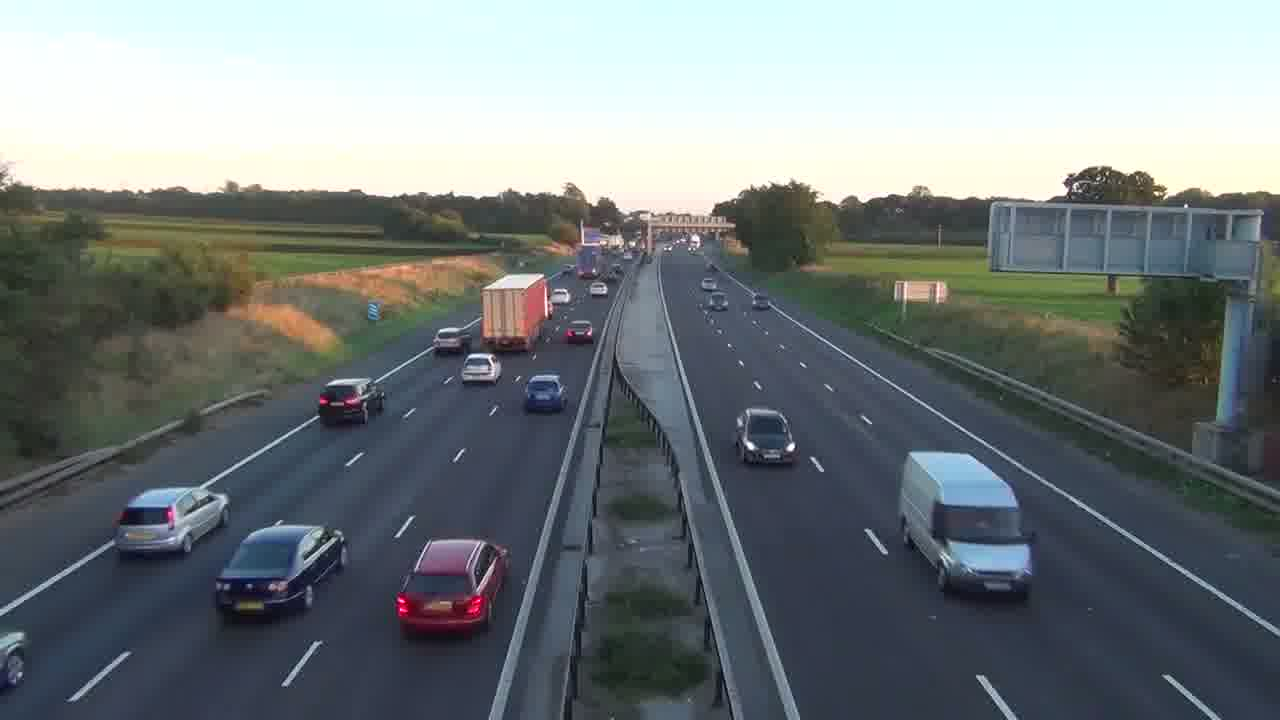car: (213, 521, 348, 620), (394, 537, 511, 639), (112, 486, 229, 559), (317, 378, 376, 425), (0, 626, 31, 691), (524, 373, 566, 413), (460, 352, 502, 387), (564, 320, 594, 345)
truck: (897, 450, 1037, 600), (481, 273, 548, 353)
